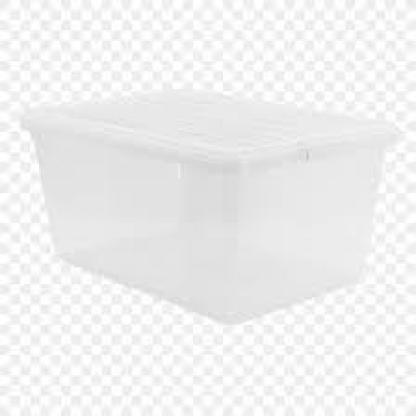plastic_box: (9, 59, 410, 340)
